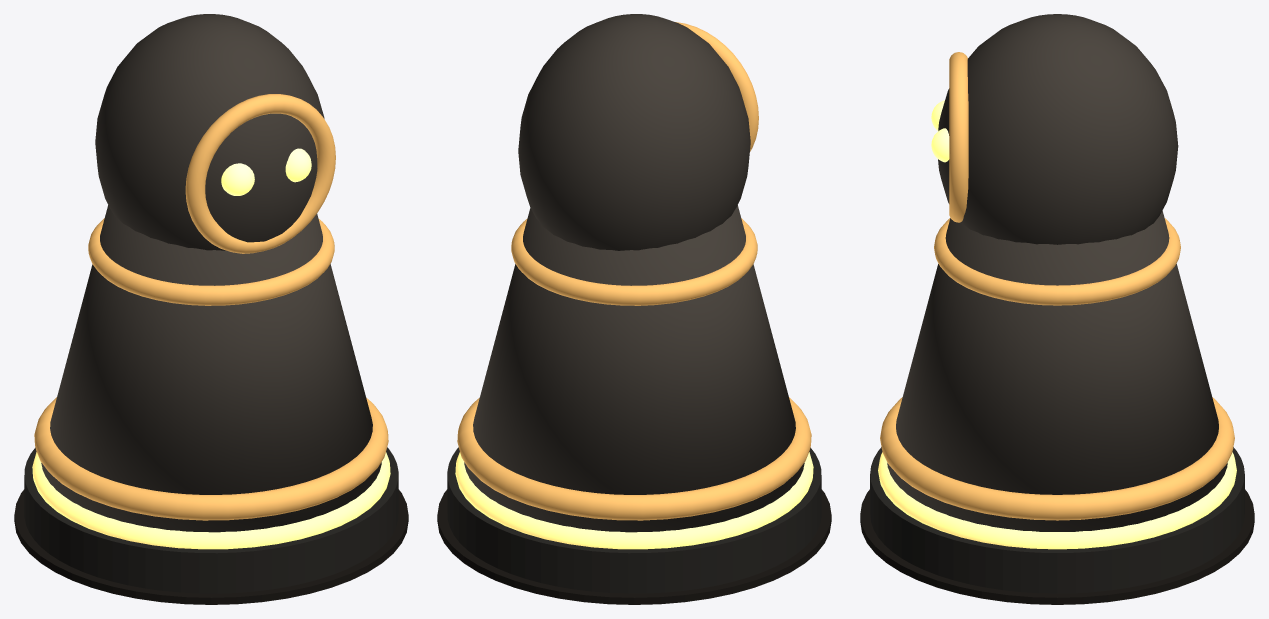
Rendered from guardian.glb.
3 renders of one model, left to right at view 1: azimuth 30°, elevation 25°; view 2: azimuth 150°, elevation 25°; view 3: azimuth 270°, elevation 25°, orthographic.
Parts seen in each view (by area): view 1: Guardian_Cloak, Guardian_Hood, Guardian_Base, Guardian_Cloak_Hem, Guardian_Hood_Trim, Guardian_Base_Ring, Guardian_Shadow, Guardian_Cloak_Trim, Guardian_Eye_Left, Guardian_Eye_Right; view 2: Guardian_Cloak, Guardian_Hood, Guardian_Base, Guardian_Cloak_Hem, Guardian_Base_Ring, Guardian_Shadow, Guardian_Cloak_Trim, Guardian_Hood_Trim; view 3: Guardian_Cloak, Guardian_Hood, Guardian_Base, Guardian_Cloak_Hem, Guardian_Base_Ring, Guardian_Shadow, Guardian_Cloak_Trim, Guardian_Hood_Trim.
Part boxes in pixels (<box>): Guardian_Cloak: <box>41,205,381,532</box>; Guardian_Hood: <box>95,14,324,250</box>; Guardian_Base: <box>24,447,398,593</box>; Guardian_Cloak_Hem: <box>34,397,388,520</box>; Guardian_Hood_Trim: <box>185,94,335,253</box>; Guardian_Base_Ring: <box>32,452,390,549</box>; Guardian_Shadow: <box>14,489,408,604</box>; Guardian_Cloak_Trim: <box>88,218,334,305</box>; Guardian_Eye_Left: <box>221,163,254,195</box>; Guardian_Eye_Right: <box>285,148,311,182</box>; Guardian_Cloak: <box>464,205,804,532</box>; Guardian_Hood: <box>518,14,750,250</box>; Guardian_Base: <box>447,447,821,593</box>; Guardian_Cloak_Hem: <box>457,397,811,520</box>; Guardian_Base_Ring: <box>455,452,813,549</box>; Guardian_Shadow: <box>437,489,831,604</box>; Guardian_Cloak_Trim: <box>511,218,757,305</box>; Guardian_Hood_Trim: <box>675,22,758,151</box>; Guardian_Cloak: <box>887,210,1227,531</box>; Guardian_Hood: <box>938,14,1178,244</box>; Guardian_Base: <box>870,447,1244,593</box>; Guardian_Cloak_Hem: <box>880,397,1234,520</box>; Guardian_Base_Ring: <box>878,452,1236,549</box>; Guardian_Shadow: <box>860,489,1254,604</box>; Guardian_Cloak_Trim: <box>934,218,1180,305</box>; Guardian_Hood_Trim: <box>949,52,968,222</box>.
Size of the model in its own units: 0.6 by 0.8365 by 0.6.
